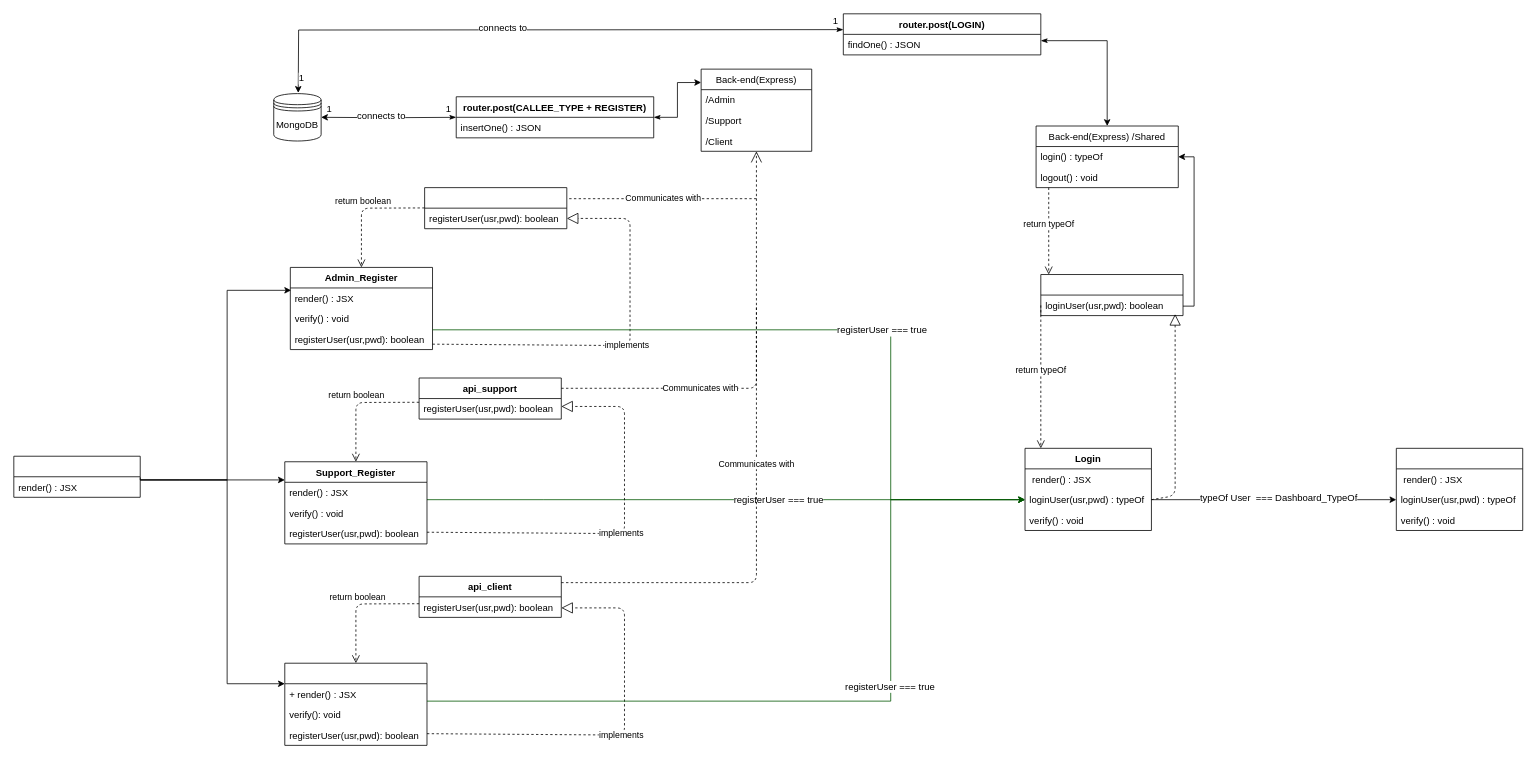
Image size: 1537x762. Some labels were removed from this diagram. The box of each missing label's shape, as (x1, y1, x2, y2) in pixels:
api_admin: (424, 187, 567, 229)
api_shared: (1040, 274, 1183, 316)
Client_Register: (284, 662, 427, 745)
Dashboard: (1396, 448, 1523, 530)
Main: (13, 455, 140, 497)
